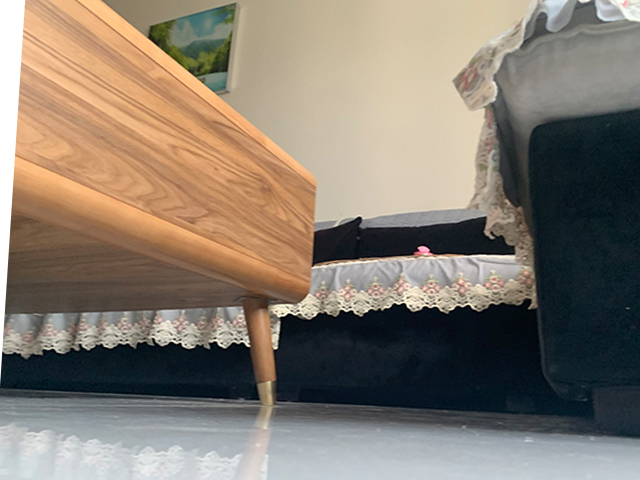sofa: (321, 18, 640, 431)
table: (6, 1, 316, 410)
